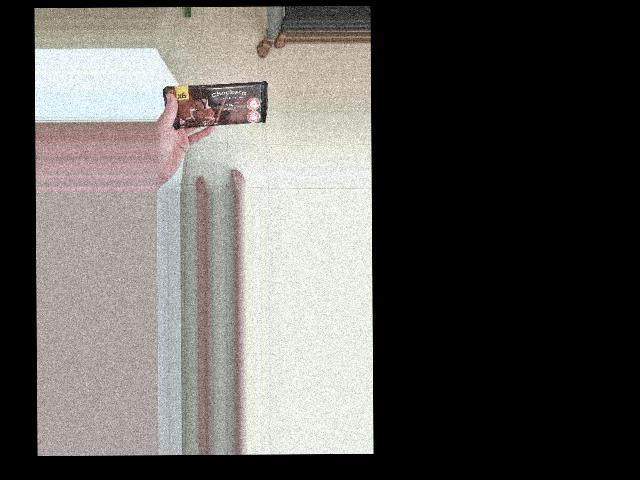chocolate: (215, 32, 279, 140)
